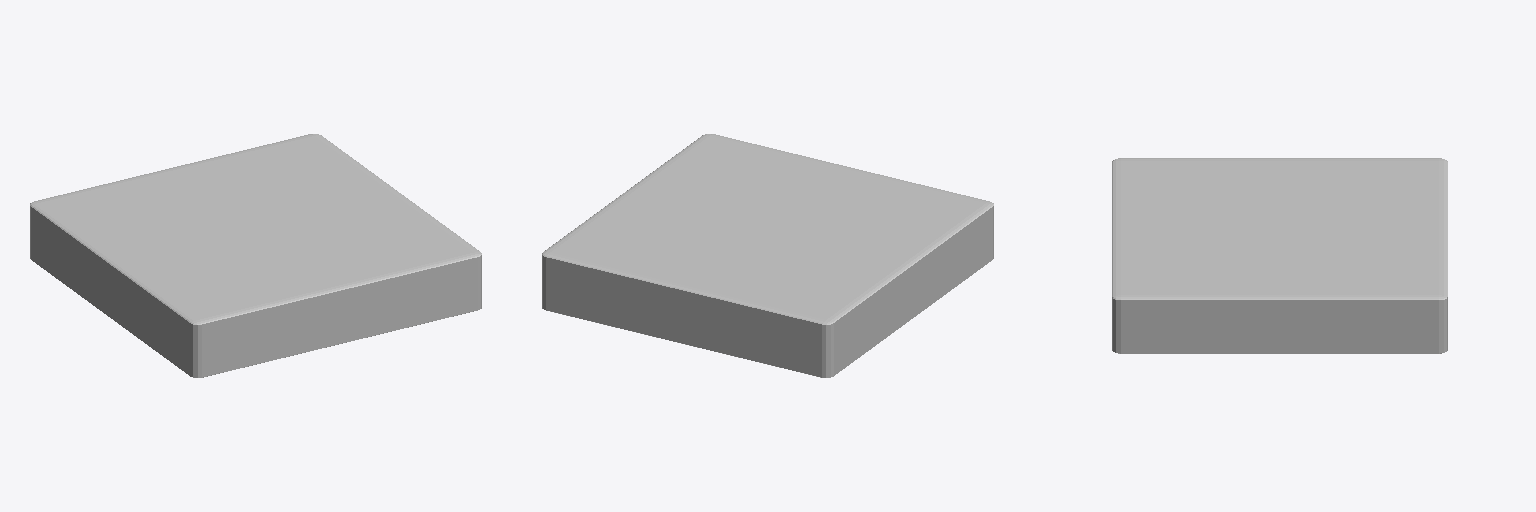
Rendered from dice-tray.obj.
3 renders of one model, left to right at view 1: azimuth 30°, elevation 25°; view 2: azimuth 150°, elevation 25°; view 3: azimuth 270°, elevation 25°, orthographic.
Visible parts, largest first — view 1: Cube; view 2: Cube; view 3: Cube.
Boxes of the visible parts, x1,y1,x2,y2 form: Cube: [30, 134, 481, 377]; Cube: [542, 134, 993, 377]; Cube: [1112, 158, 1447, 353].
Size of the model in its own units: 19 by 3.5 by 19.